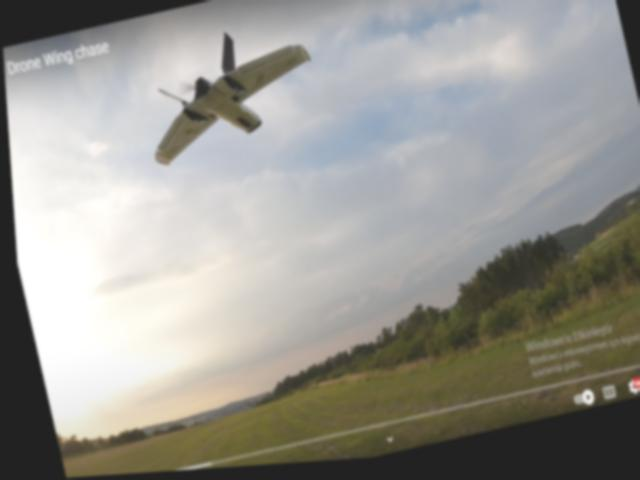plane: (127, 17, 328, 172)
